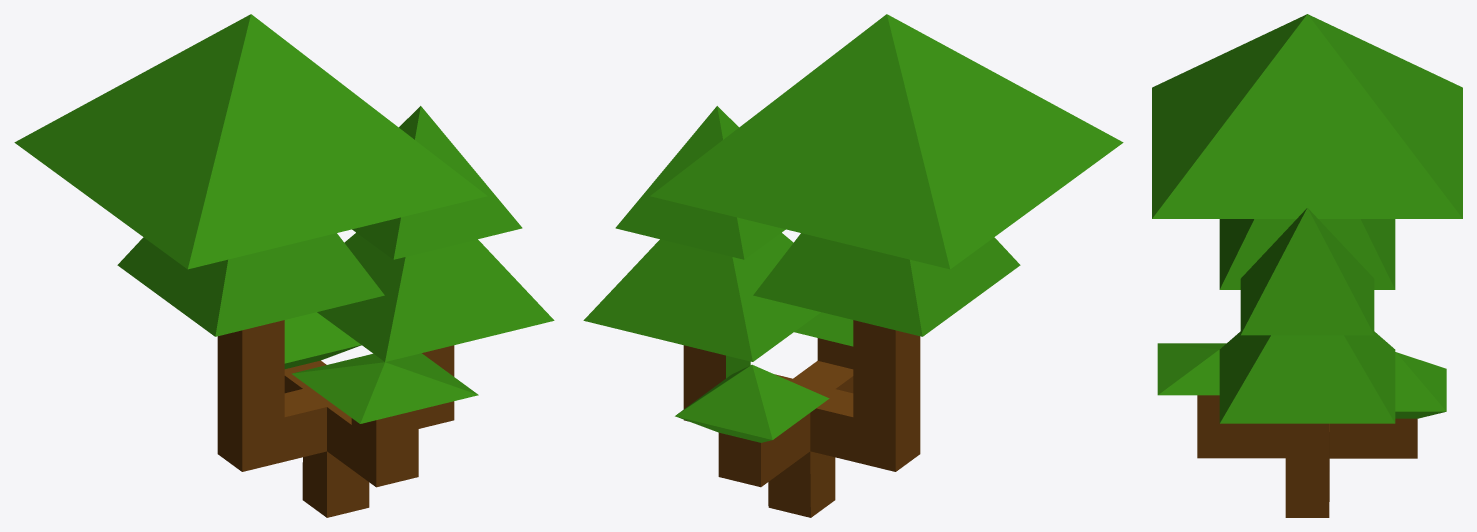
Rendered from Tree_2.fbx.
3 renders of one model, left to right at view 1: azimuth 30°, elevation 25°; view 2: azimuth 150°, elevation 25°; view 3: azimuth 270°, elevation 25°, orthographic. The views are drawn at different scales.
Visible parts, largest first — view 1: Cube; view 2: Cube; view 3: Cube.
Boxes of the visible parts, x1,y1,x2,y2 form: Cube: [14, 14, 554, 517]; Cube: [583, 14, 1123, 517]; Cube: [1152, 14, 1462, 517].
Bounding box in the file's own units: 1908 × 2300 × 1416.
